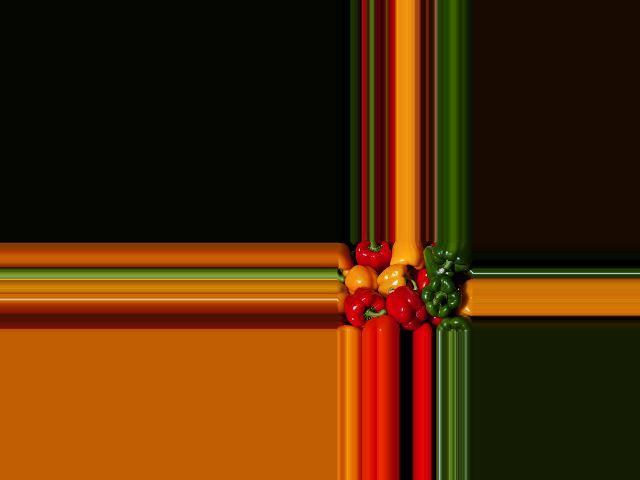bell_pepper: (435, 311, 472, 332)
